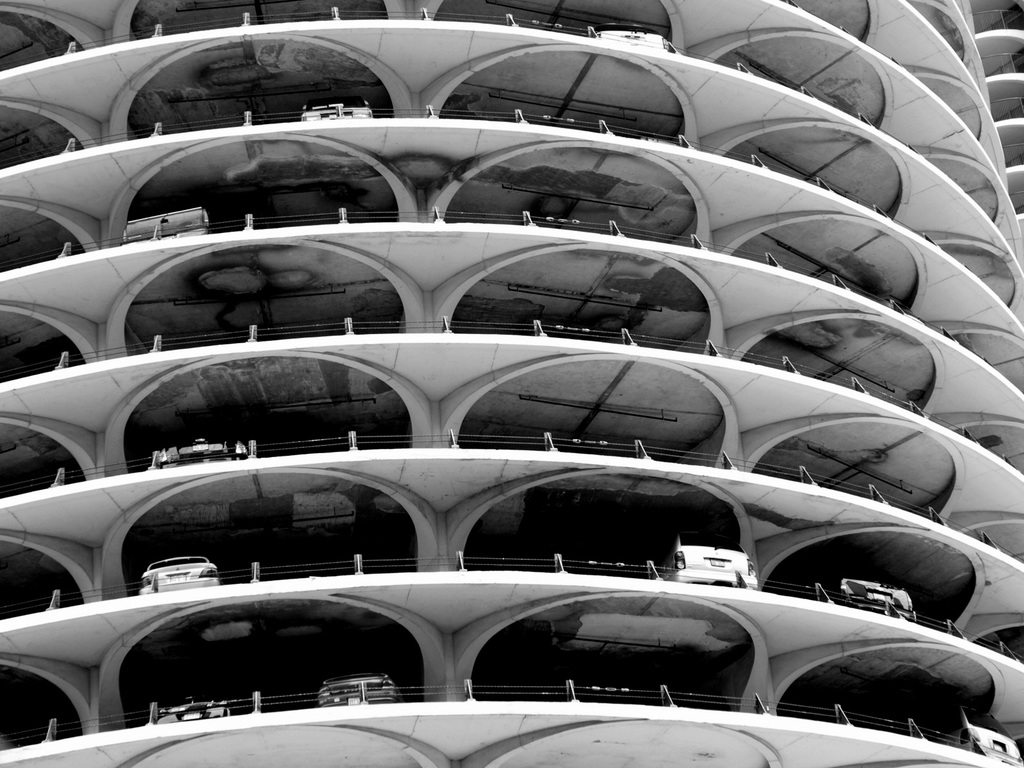car: (626, 515, 768, 597), (906, 694, 1022, 765), (568, 0, 677, 72), (134, 424, 266, 475), (135, 674, 240, 735), (299, 660, 405, 716), (820, 570, 911, 624), (133, 552, 228, 600), (296, 83, 383, 130)
